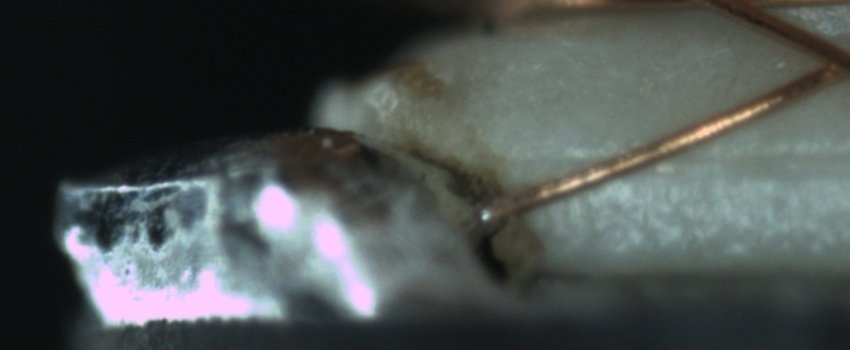CL: (795, 31, 849, 90)
DL: (562, 123, 848, 194)
